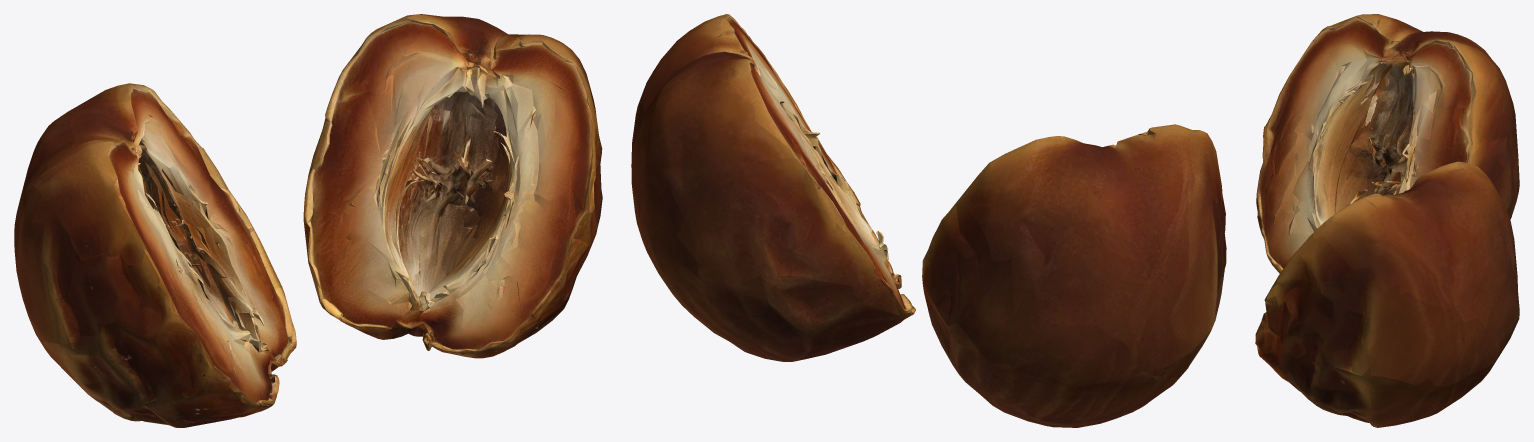
File: dates.glb
3 views of the same model, side by side, from view 1: azimuth 30°, elevation 25°; view 2: azimuth 150°, elevation 25°; view 3: azimuth 270°, elevation 25° (orthographic). The views are drawn at different scales.
Visible parts, largest first — view 1: output_unwrapped; view 2: output_unwrapped; view 3: output_unwrapped.
Part boxes in pixels (x1,y1,x2,y2): output_unwrapped: (14,14,602,427); output_unwrapped: (631,14,1226,427); output_unwrapped: (1255,14,1519,427).
Bounding box in the file's own units: 1.9 × 0.9817 × 0.9309.
Materials: 1 (1 with a texture image).
